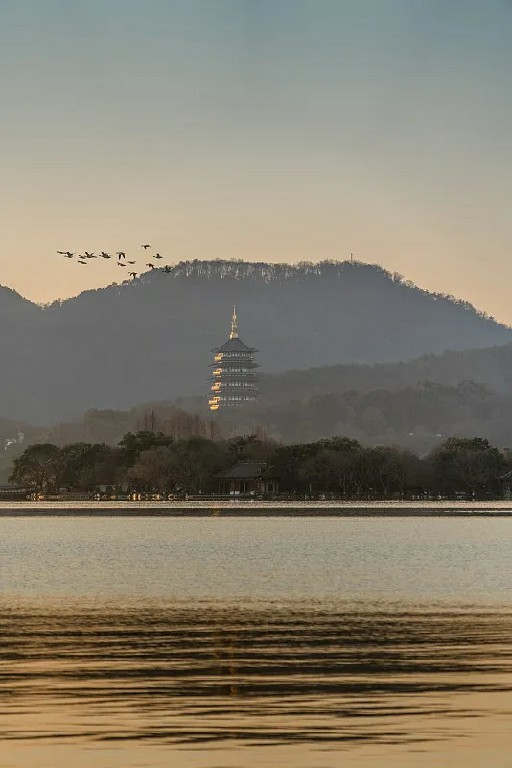Leifeng: (207, 304, 258, 413)
